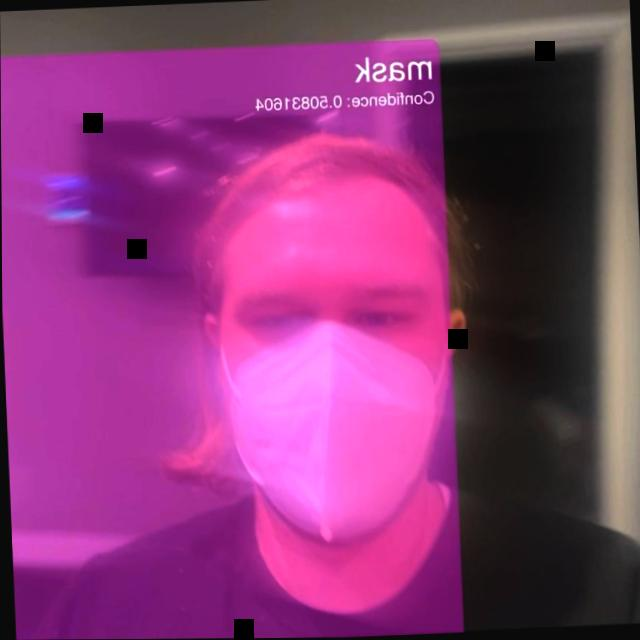Mask: (93, 23, 523, 583)
